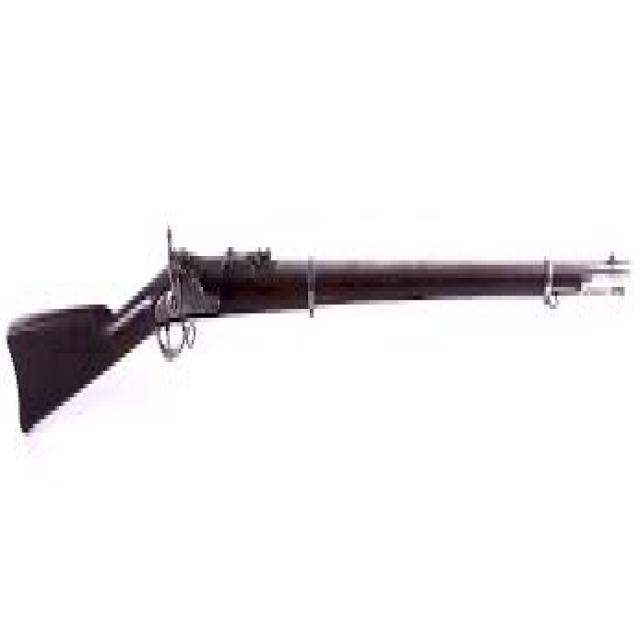rifle: (7, 233, 640, 448)
